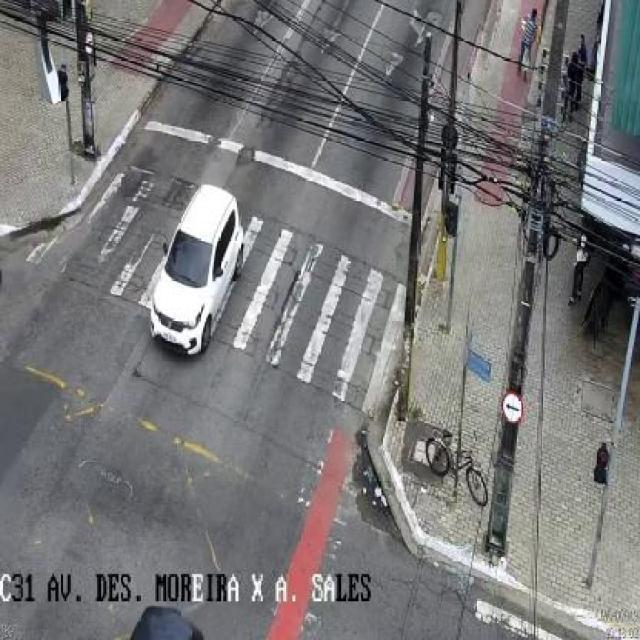Car: (148, 183, 246, 359)
Cycle: (422, 424, 491, 508)
